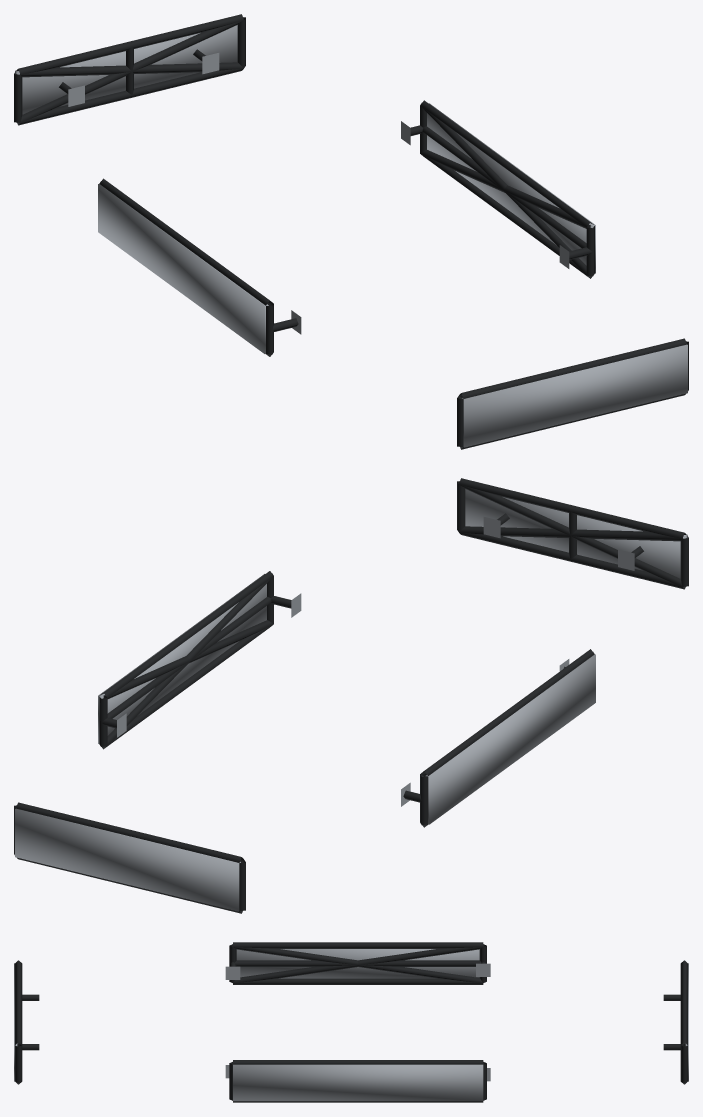
The model's file is bancroft_bigorna_protecao.glb.
3 views of the same model, one above another, from view 1: azimuth 30°, elevation 25°; view 2: azimuth 150°, elevation 25°; view 3: azimuth 270°, elevation 25° (orthographic). The views are drawn at different scales.
Visible parts, largest first — view 1: Protection_front_Level3_Details, Protection_left_Level3_Details, Protection_rear_Level1_Details, Protection_rear_Level3_Details, Protection_right_Level1_Details, Protection_right_Level2_Details, Protection_rear_Level2_Details, Protection_right_Level3_Details, Protection_front_Level1_Details, Protection_left_Level1_Details; view 2: Protection_rear_Level3_Details, Protection_left_Level3_Details, Protection_front_Level1_Details, Protection_front_Level3_Details, Protection_right_Level1_Details, Protection_right_Level2_Details, Protection_front_Level2_Details, Protection_right_Level3_Details, Protection_rear_Level1_Details, Protection_left_Level1_Details; view 3: Protection_right_Level3_Details, Protection_left_Level2_Details, Protection_left_Level1_Details, Protection_left_Level3_Details, Protection_right_Level1_Details, Protection_rear_Level1_Details, Protection_front_Level1_Details.
Boxes of the visible parts, box(x1,y1,x2,y2) form: Protection_front_Level3_Details: box(462, 344, 687, 447); Protection_left_Level3_Details: box(98, 184, 268, 353); Protection_rear_Level1_Details: box(14, 14, 245, 125); Protection_rear_Level3_Details: box(15, 25, 237, 114); Protection_right_Level1_Details: box(401, 100, 594, 278); Protection_right_Level2_Details: box(420, 106, 593, 278); Protection_rear_Level2_Details: box(16, 20, 243, 124); Protection_right_Level3_Details: box(427, 103, 595, 273); Protection_front_Level1_Details: box(457, 338, 688, 449); Protection_left_Level1_Details: box(99, 178, 301, 356); Protection_rear_Level3_Details: box(15, 808, 240, 911); Protection_left_Level3_Details: box(425, 654, 595, 824); Protection_front_Level1_Details: box(457, 478, 688, 589); Protection_front_Level3_Details: box(465, 489, 687, 578); Protection_right_Level1_Details: box(99, 571, 301, 749); Protection_right_Level2_Details: box(100, 577, 273, 748); Protection_front_Level2_Details: box(459, 484, 686, 588); Protection_right_Level3_Details: box(98, 574, 266, 743); Protection_rear_Level1_Details: box(14, 802, 245, 913); Protection_left_Level1_Details: box(401, 649, 594, 827); Protection_right_Level3_Details: box(233, 1064, 483, 1101); Protection_left_Level2_Details: box(232, 945, 483, 983); Protection_left_Level1_Details: box(225, 942, 490, 984); Protection_left_Level3_Details: box(236, 949, 479, 978); Protection_right_Level1_Details: box(225, 1060, 490, 1102); Protection_rear_Level1_Details: box(663, 960, 687, 1084); Protection_front_Level1_Details: box(15, 960, 39, 1084).
Size of the model in its own units: 2.16 by 0.354 by 5.07.
Materials: 1 (1 with a texture image).
